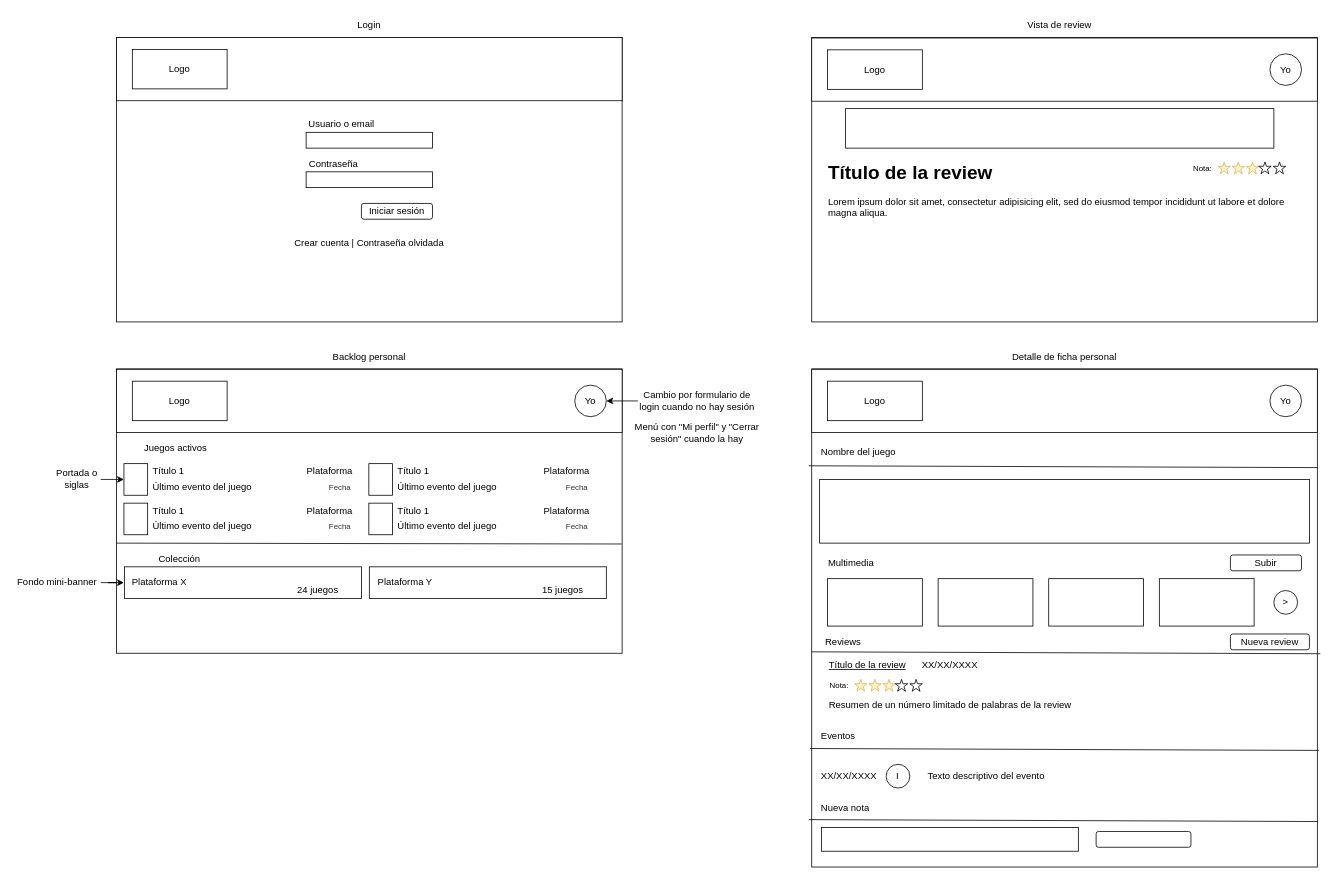
This 1335x881 diagram has some shape labels left out. Each missing label, with the centre of its shape:
"Añadir" belongs at [1143,839].
"Banner" belongs at [1059,128].
"Datos del juego" belongs at [1064,511].
